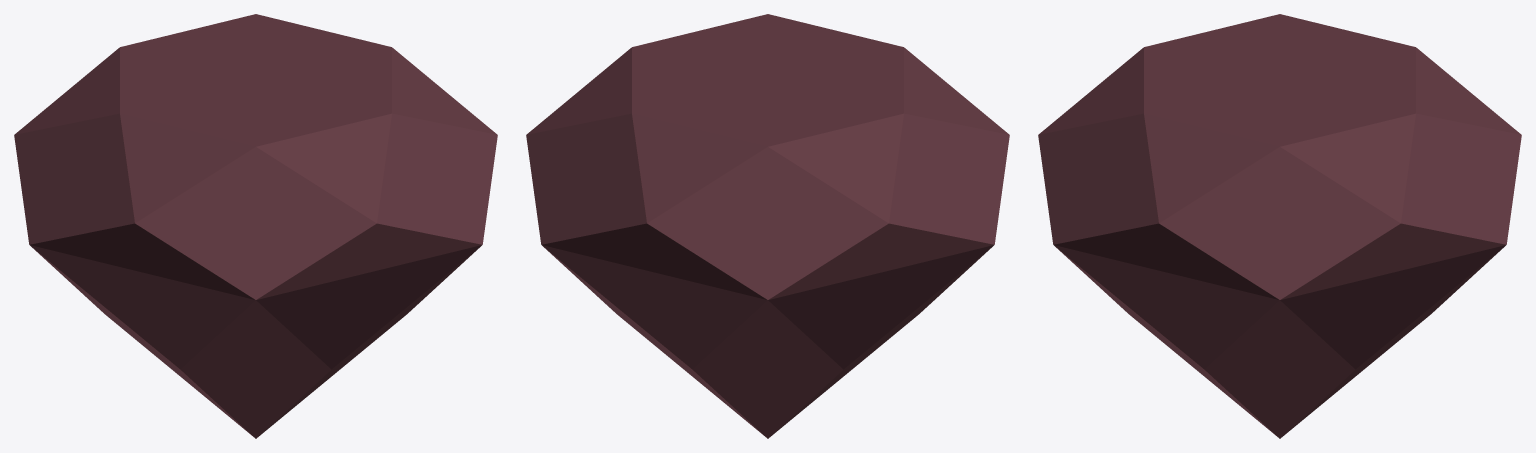
File: nature-gem.glb
The picture shows the model from 3 angles, left to right: view 1: azimuth 30°, elevation 25°; view 2: azimuth 150°, elevation 25°; view 3: azimuth 270°, elevation 25°; orthographic projection.
Visible parts, largest first — view 1: gem; view 2: gem; view 3: gem.
Part boxes in pixels (bbox=[...]): gem: bbox=[14, 14, 497, 438]; gem: bbox=[526, 14, 1009, 438]; gem: bbox=[1038, 14, 1521, 438].
Bounding box in the file's own units: 0.233 × 0.176 × 0.2152.
